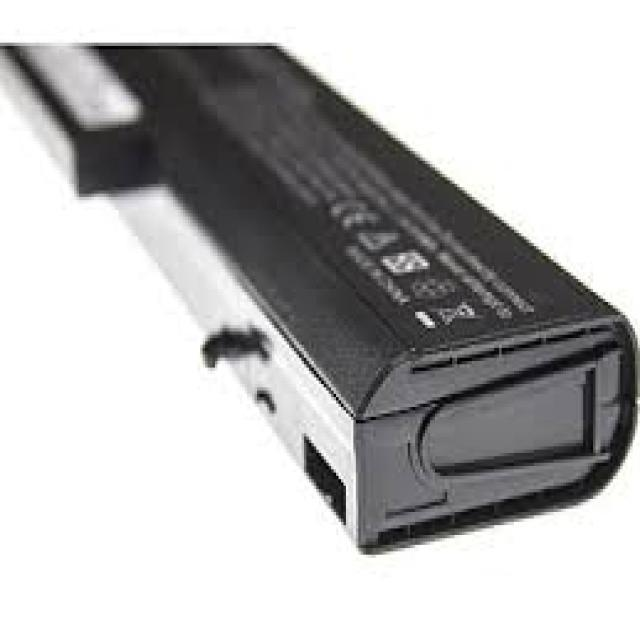Battery: (0, 22, 640, 570)
